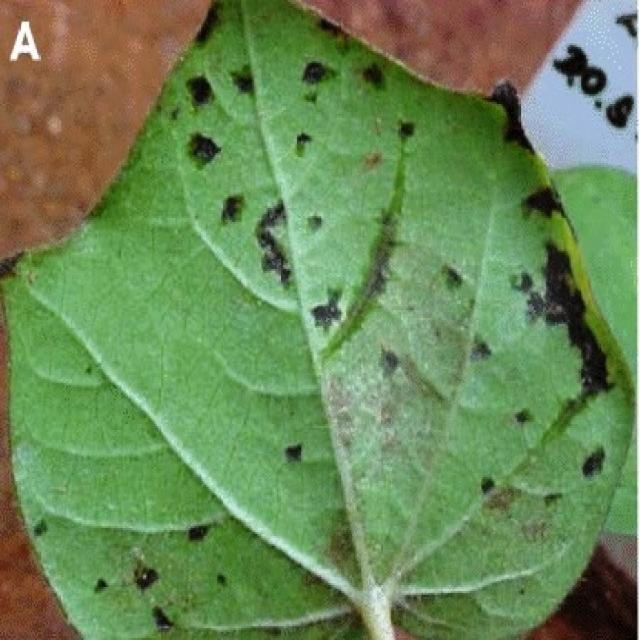Bacterial Blight: (190, 6, 610, 409)
